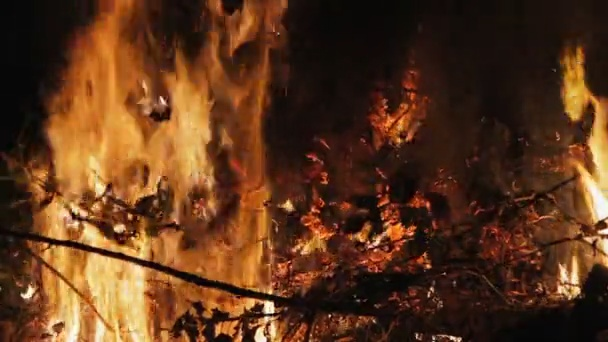fire: (32, 1, 281, 341), (562, 56, 608, 233), (557, 256, 580, 298)
